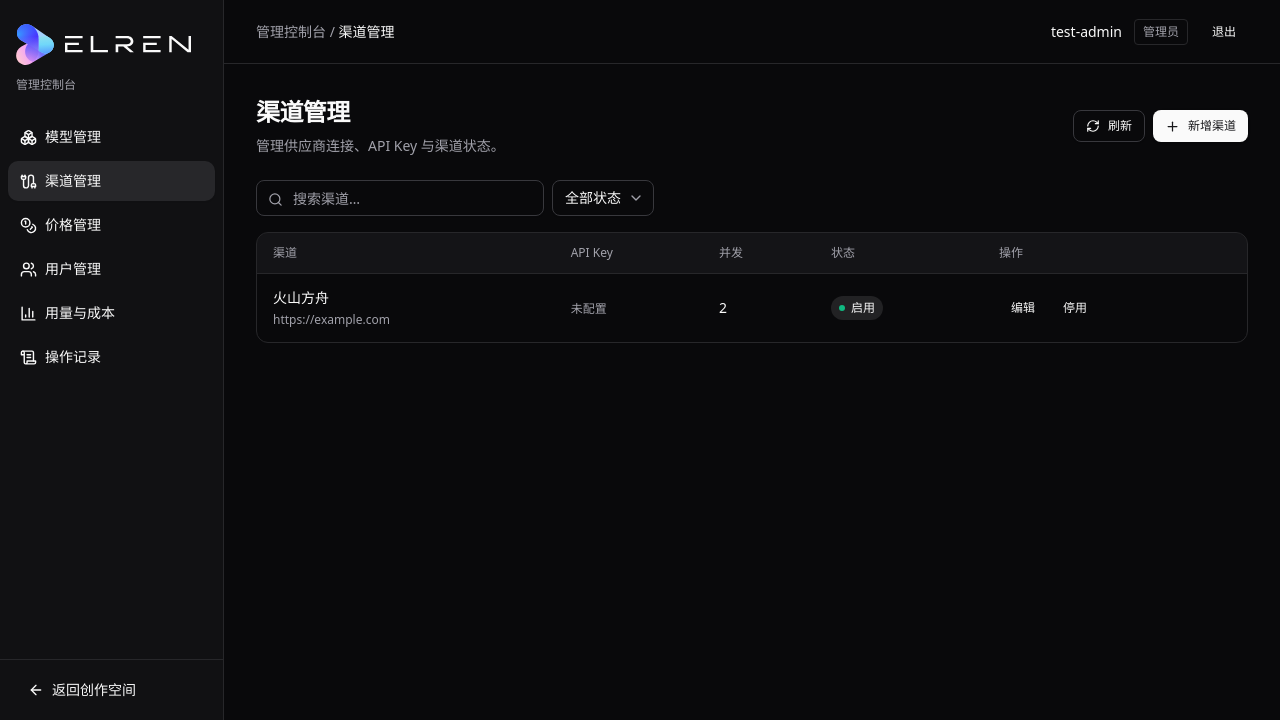
Test: navigation never renders a previous section with the next section columns
expect the text "火山方舟" is shown: met, box left=273, top=288, right=329, bottom=306
Click the button "价格管理" at (112, 225), box left=8, top=205, right=215, bottom=245
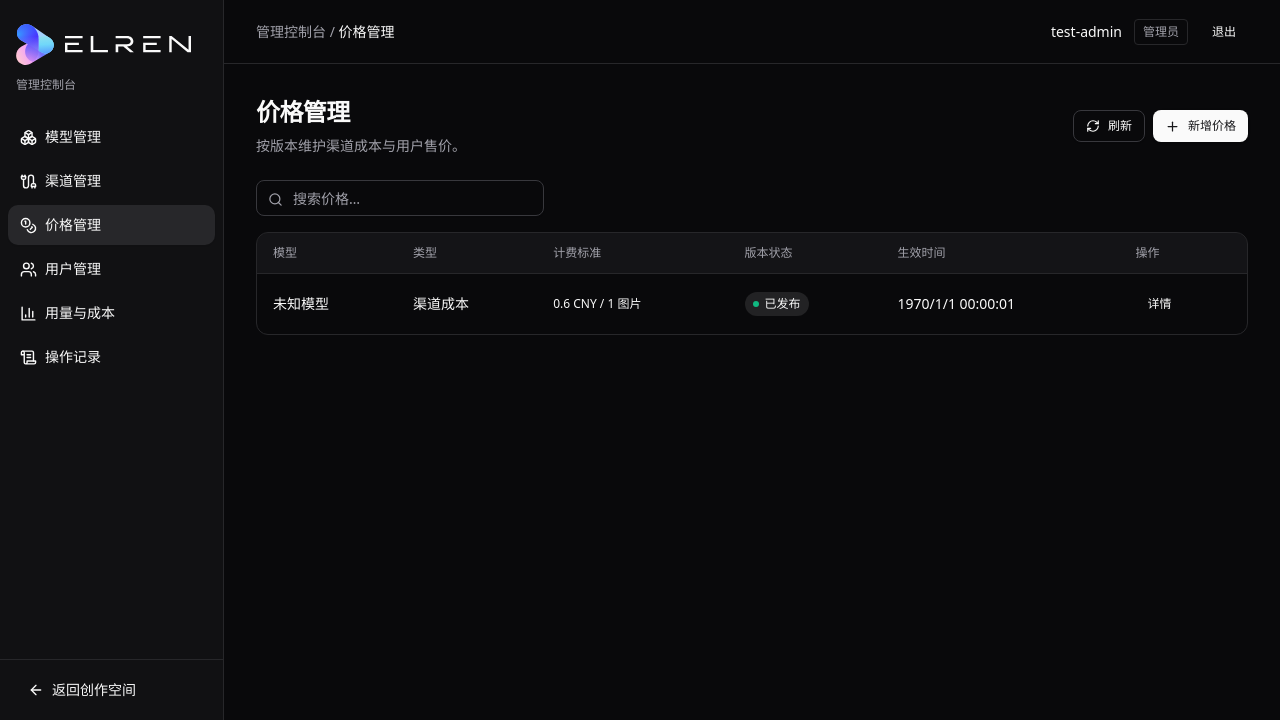
expect the heading "价格管理" is shown: met, box left=256, top=95, right=350, bottom=128
expect the text "0.6 CNY / 1 图片" is shown: met, box left=553, top=294, right=641, bottom=312
Click the button "模型管理" at (112, 137), box left=8, top=117, right=215, bottom=157
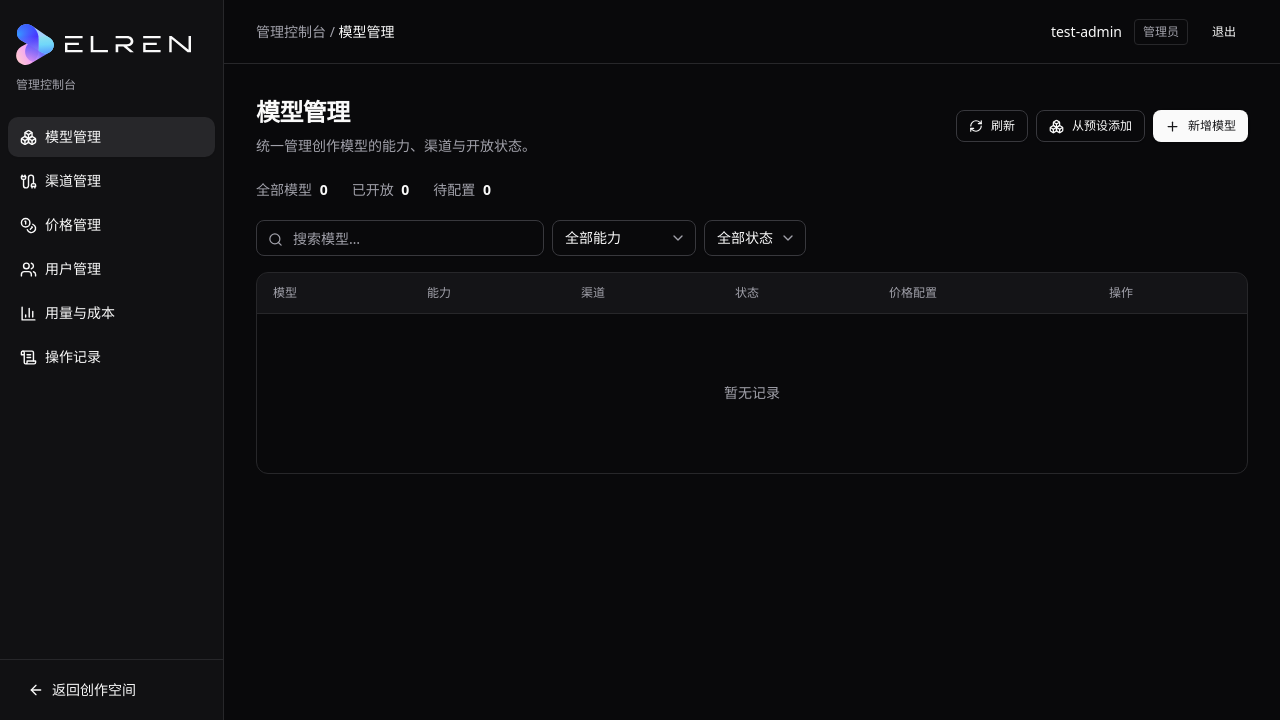
expect the heading "模型管理" is shown: met, box left=256, top=95, right=350, bottom=128
expect the text "暂无记录" is shown: met, box left=257, top=313, right=1247, bottom=473
